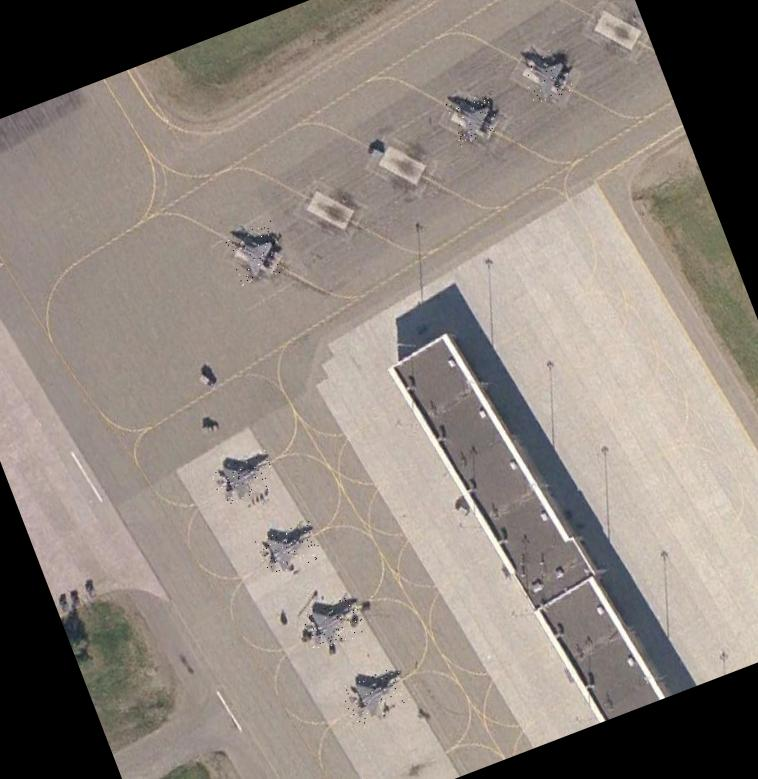A13: (339, 662, 412, 726), (224, 219, 290, 286), (209, 446, 278, 505), (300, 594, 368, 653), (255, 520, 323, 577), (518, 44, 576, 105), (443, 87, 502, 146)
